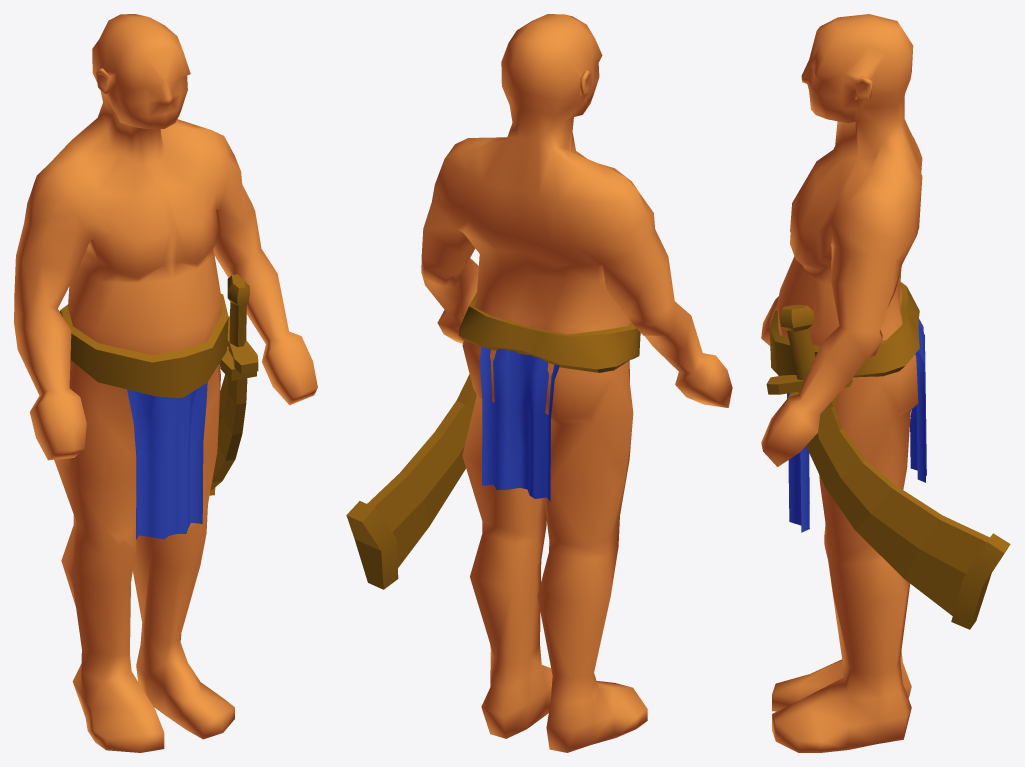
File: DickerMann_A_007_mit_AusrA¦èstung.dae
3 views of the same model, side by side, from view 1: azimuth 30°, elevation 25°; view 2: azimuth 150°, elevation 25°; view 3: azimuth 270°, elevation 25° (orthographic). The views are drawn at different scales.
Parts seen in each view (by area): view 1: DickerMann, Lendenschurz, Guertel, Saebel; view 2: DickerMann, Saebel, Lendenschurz, Guertel; view 3: DickerMann, Saebel, Guertel, Lendenschurz.
Boxes of the visible parts, bbox=[...] form: DickerMann: bbox=[14, 14, 317, 752]; Lendenschurz: bbox=[127, 382, 207, 539]; Guertel: bbox=[59, 293, 228, 397]; Saebel: bbox=[209, 274, 258, 495]; DickerMann: bbox=[421, 14, 732, 752]; Saebel: bbox=[346, 374, 476, 589]; Lendenschurz: bbox=[479, 346, 559, 501]; Guertel: bbox=[458, 292, 640, 372]; DickerMann: bbox=[761, 14, 922, 752]; Saebel: bbox=[766, 305, 1010, 629]; Guertel: bbox=[769, 282, 919, 377]; Lendenschurz: bbox=[787, 319, 926, 532].
Size of the model in its own units: 1.18 by 2.89 by 0.9296.
